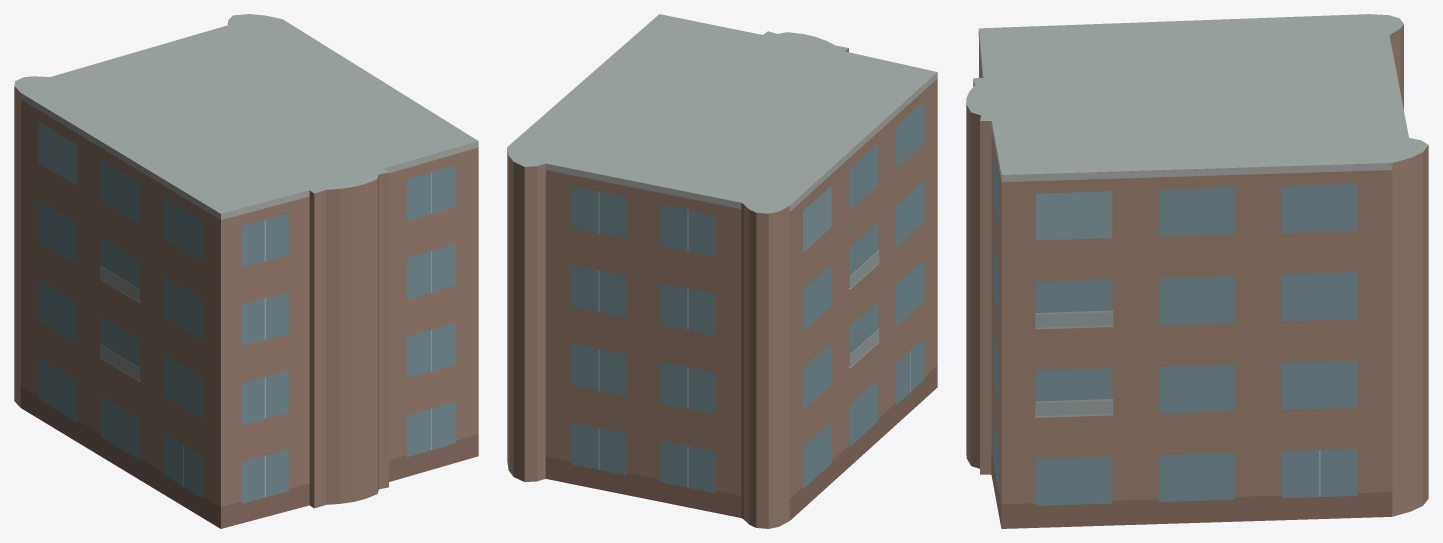
Rendered from survey-upis-32612368.glb.
3 views of the same model, side by side, from view 1: azimuth 30°, elevation 25°; view 2: azimuth 150°, elevation 25°; view 3: azimuth 270°, elevation 25° (orthographic). The views are drawn at different scales.
Visible parts, largest first — view 1: survey-upis-32612368.tmp; view 2: survey-upis-32612368.tmp; view 3: survey-upis-32612368.tmp.
Part boxes in pixels (x1=…): survey-upis-32612368.tmp: x1=14, y1=14, x2=478, y2=528; survey-upis-32612368.tmp: x1=507, y1=14, x2=937, y2=528; survey-upis-32612368.tmp: x1=966, y1=14, x2=1428, y2=528.
Bounding box in the file's own units: 11.92 × 12.2 × 14.45.
